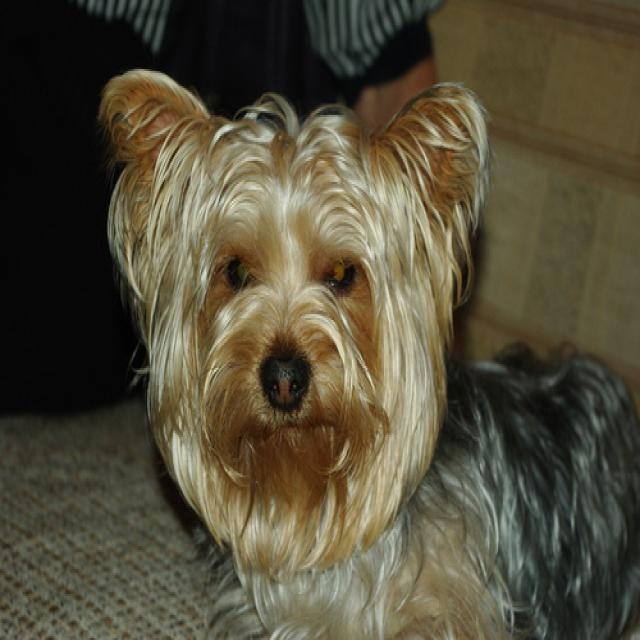dog-yorkshire_terrier: (101, 59, 637, 636)
